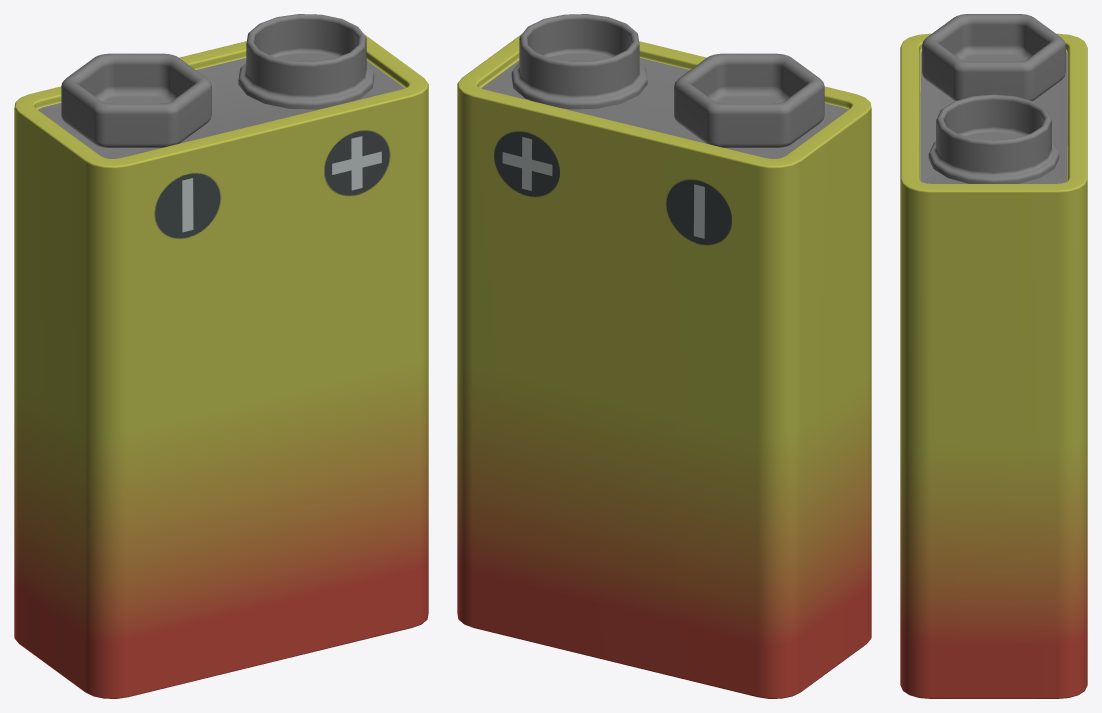
The model's file is battery_geo.fbx.
The picture shows the model from 3 angles, left to right: view 1: azimuth 30°, elevation 25°; view 2: azimuth 150°, elevation 25°; view 3: azimuth 270°, elevation 25°; orthographic projection. The views are drawn at different scales.
Visible parts, largest first — view 1: battery_geo; view 2: battery_geo; view 3: battery_geo.
Boxes of the visible parts, <box> form: battery_geo: <box>14,14,428,698</box>; battery_geo: <box>457,14,871,698</box>; battery_geo: <box>900,14,1087,698</box>.
Bounding box in the file's own units: 25 × 40 × 12.5.
Materials: 1 (1 with a texture image).
